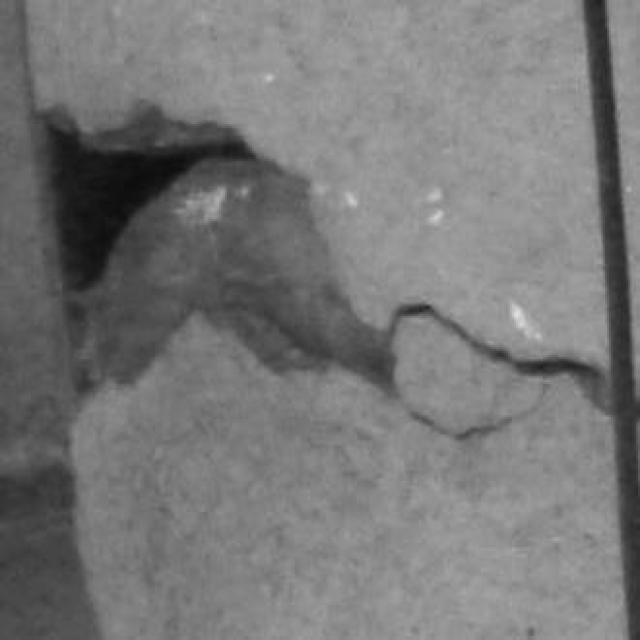crack: (47, 107, 396, 392), (400, 304, 609, 409)
